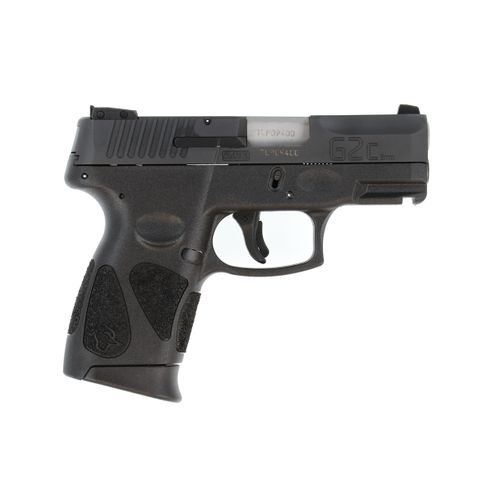gun: (58, 99, 433, 403)
